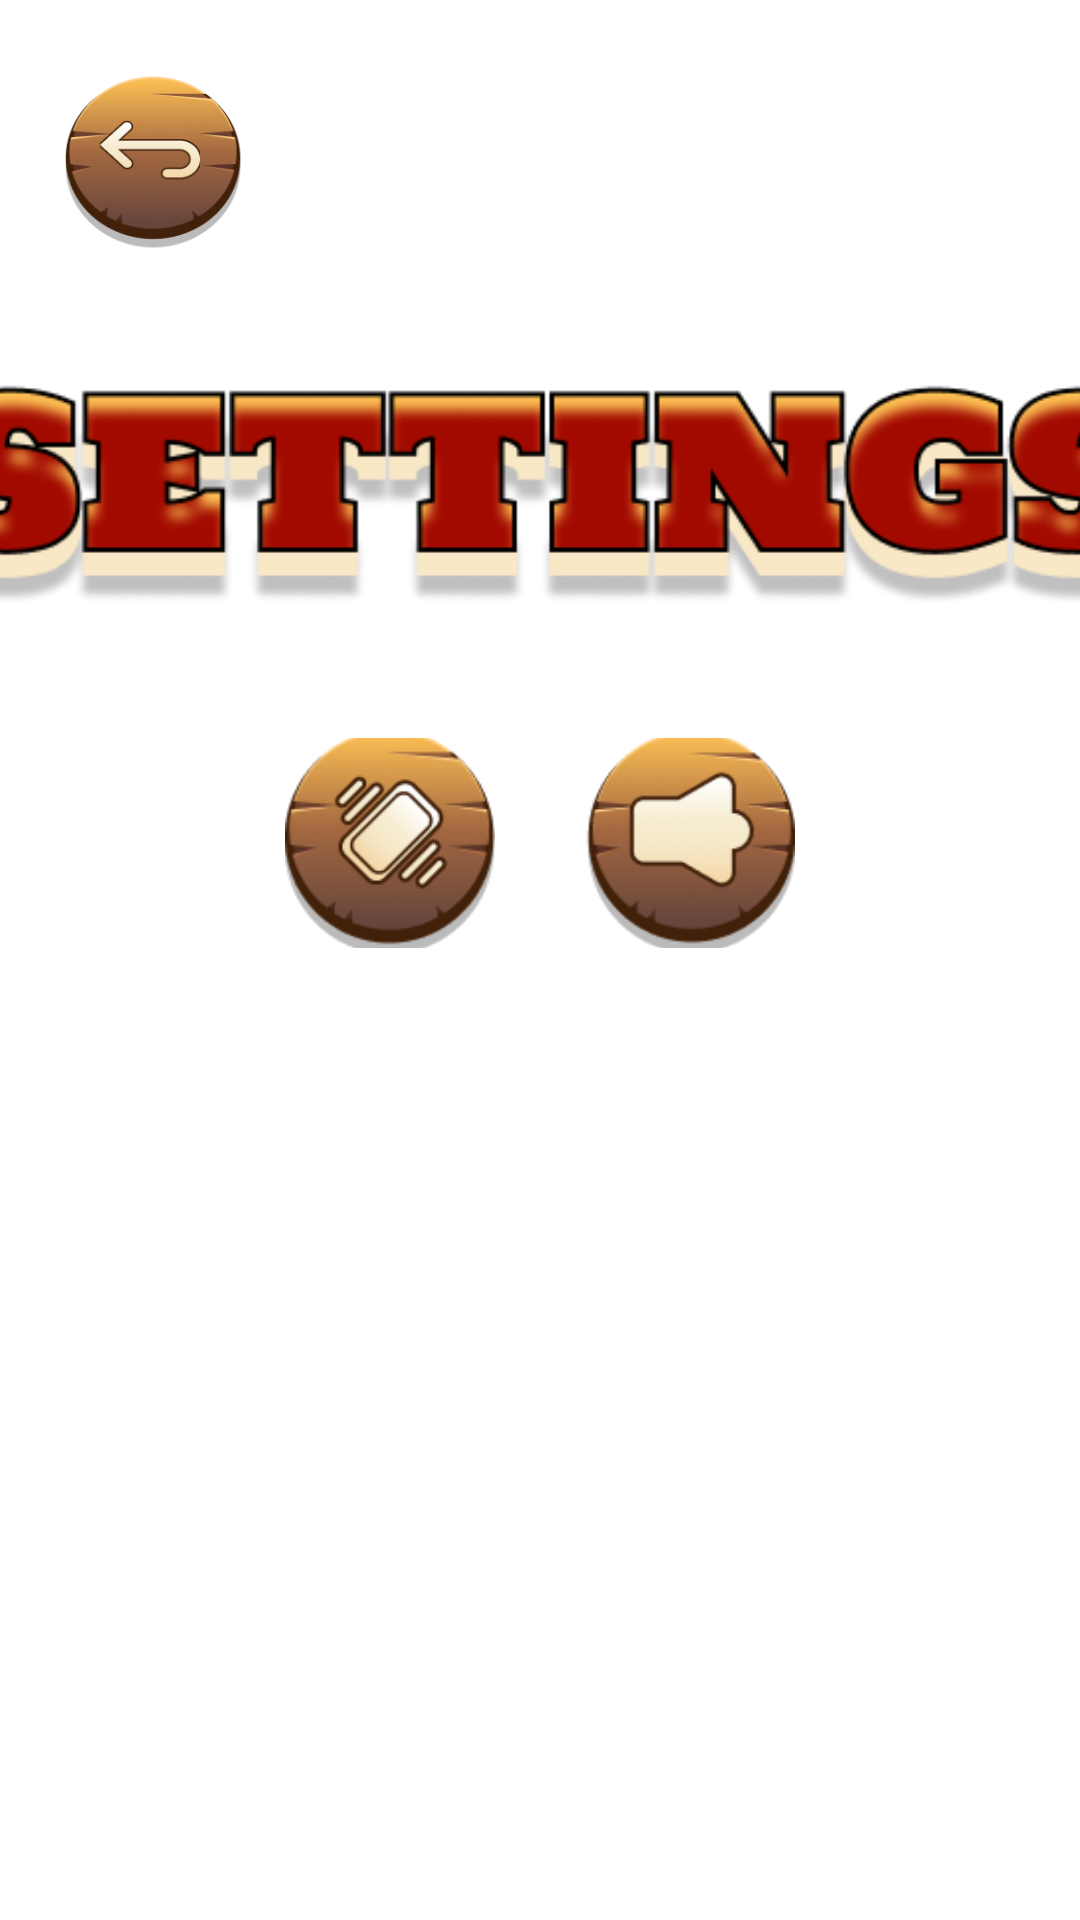

Locate icon controls on the screen. Image size 1080*1920, boxes as bbox=[x1, y1, x2, y2].
back: bbox=[65, 76, 241, 248]
